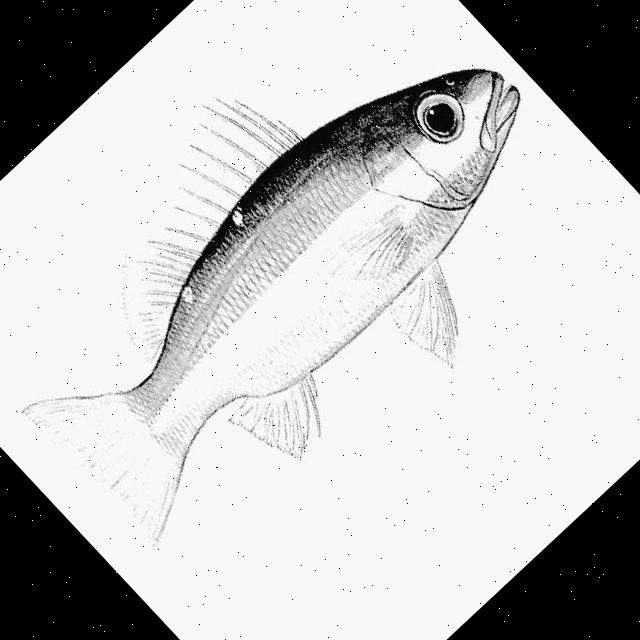ikan: (0, 0, 628, 605)
